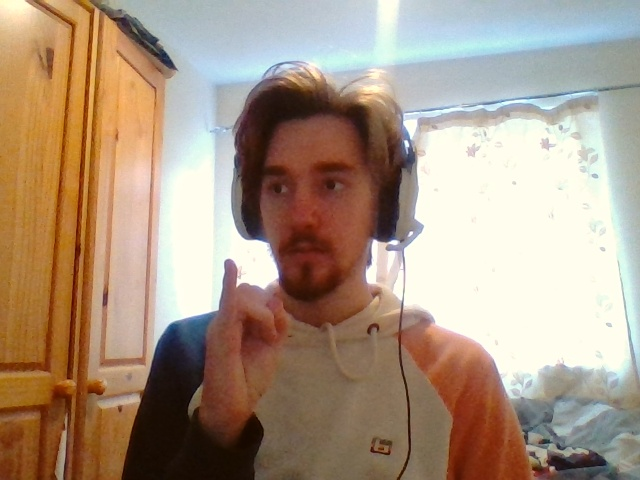bad: (205, 258, 287, 412)
